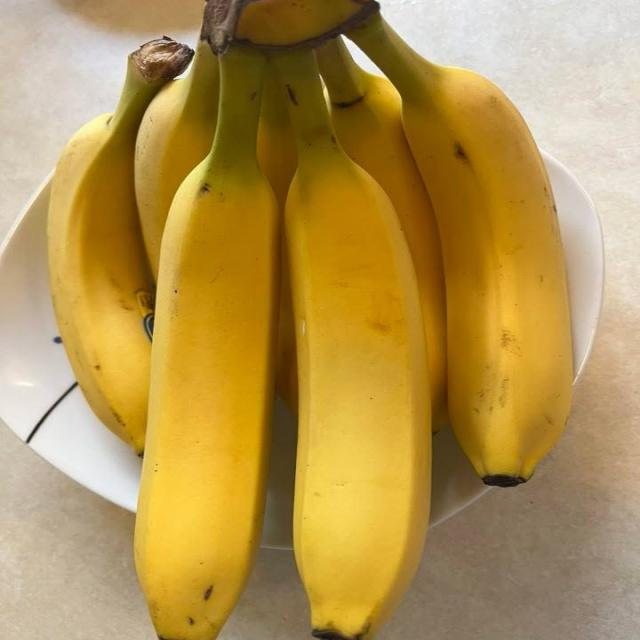unpeal banana: (350, 16, 572, 485), (272, 50, 431, 639), (136, 48, 280, 639), (48, 38, 192, 453), (317, 38, 447, 431), (136, 38, 218, 279), (216, 0, 378, 47), (276, 252, 297, 413)
